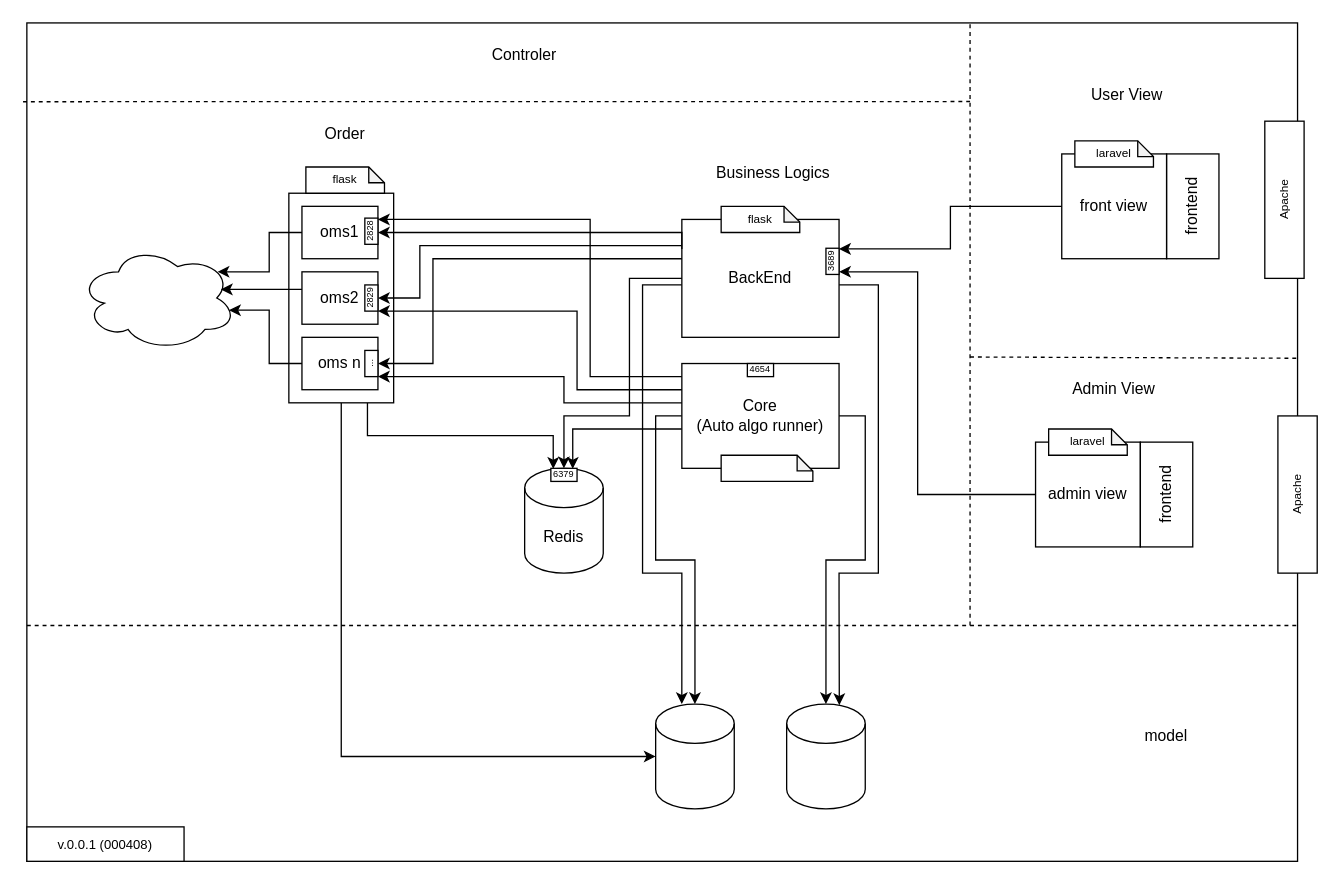
This 1340x884 diagram has some shape labels left out. Here are the shapes that lost their labels. From the top down, the centre of each, then its label:
the point at 157,297: Rayan OMS
the point at 766,467: flask - pure
the point at 694,756: oms DB
the point at 825,756: Users DB
